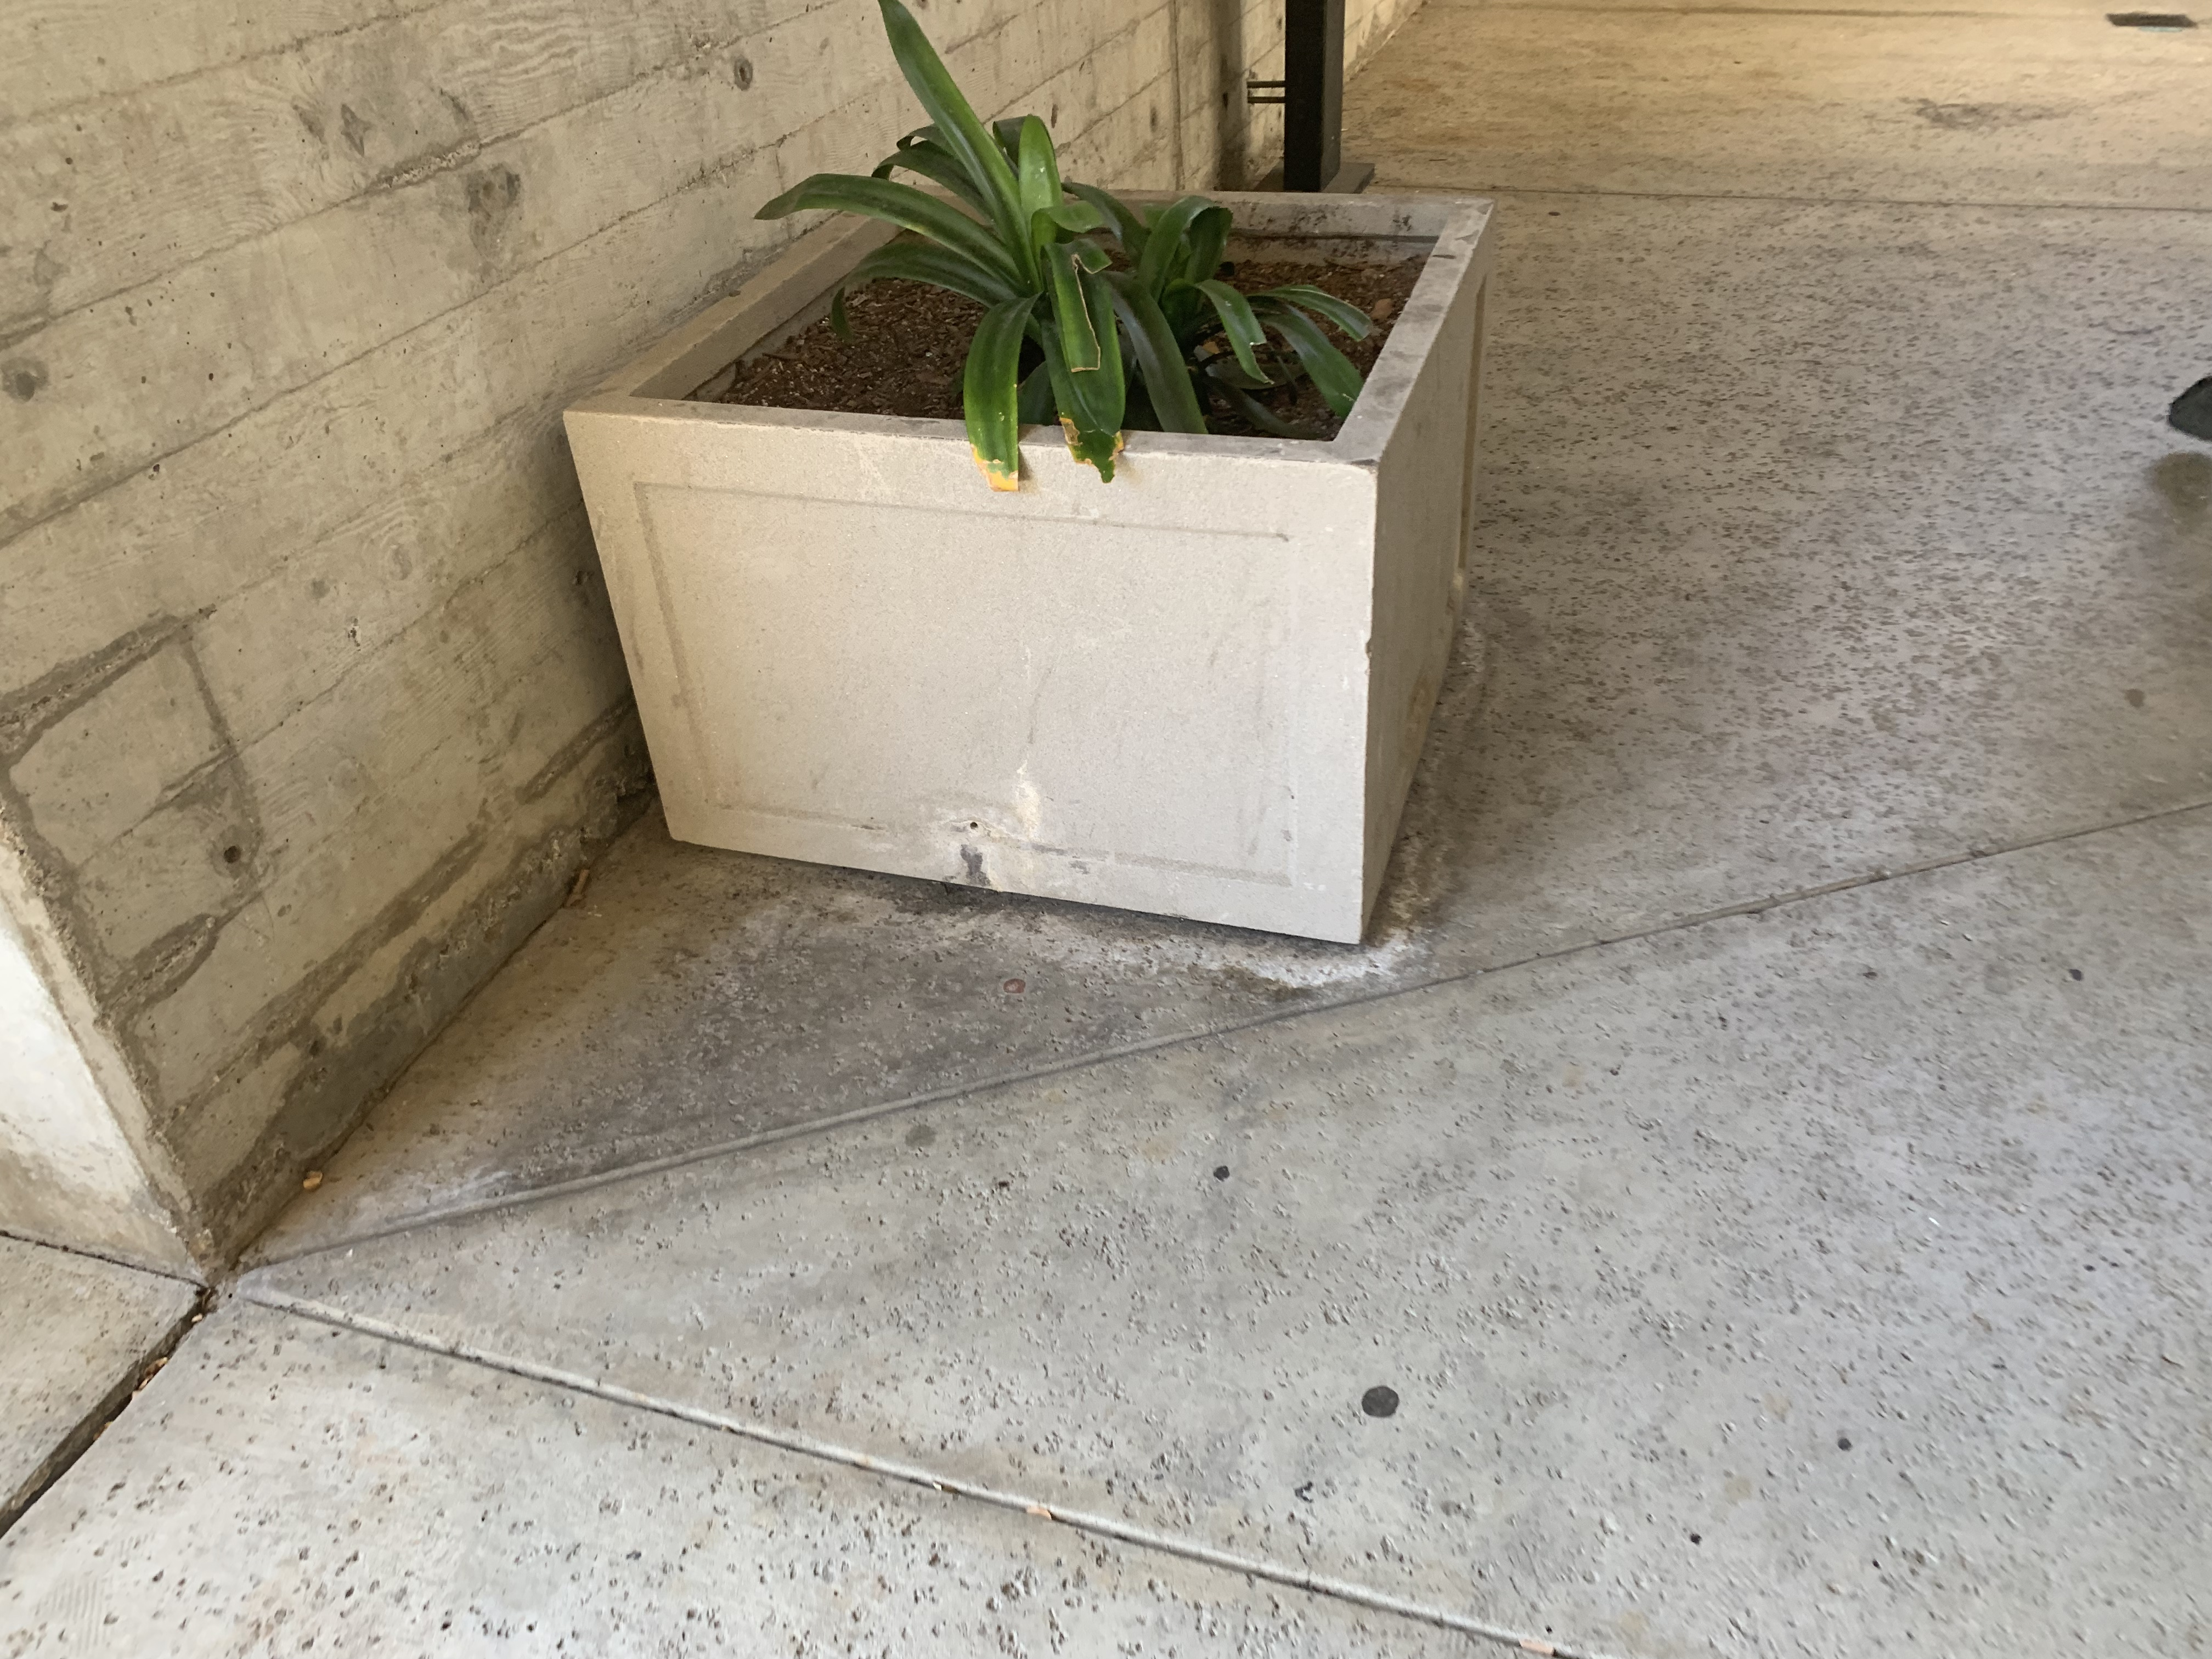Obstacle: (481, 70, 1540, 985), (9, 5, 660, 1284)
